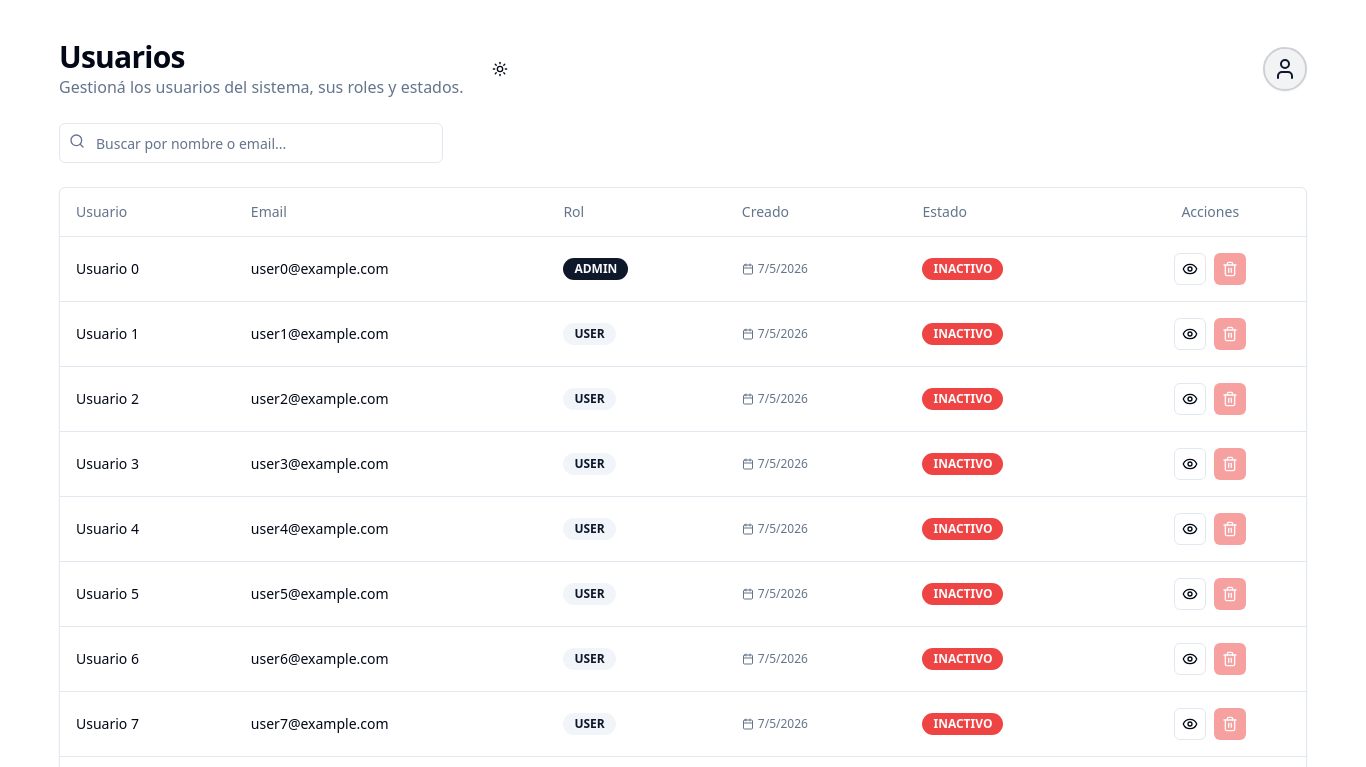
Scenario: UsersPage › Persistencia de búsqueda › debería mantener el término de búsqueda al cambiar de página
Expected: the text "Usuario 0" is shown, [60,236,235,301]
Type "usuario" into the field with placeholder "Buscar por nombre o email..." at (251, 143), box [59,123,443,163]
(page scrolled)
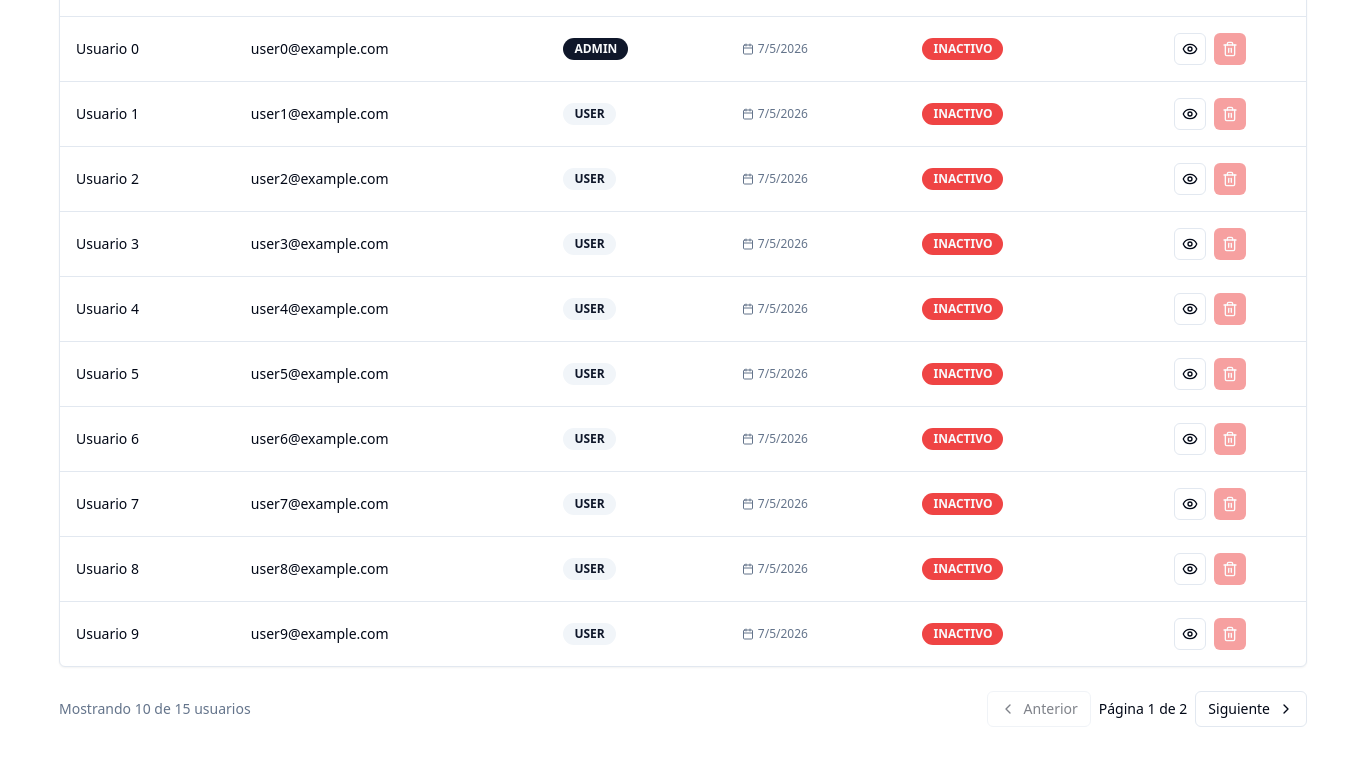
Expected: the text "Usuario 0" is shown, [60,16,235,81]
// Navega a página 2
Click the button "Siguiente" at (1251, 708), box [1195,690,1307,726]
(page scrolled)
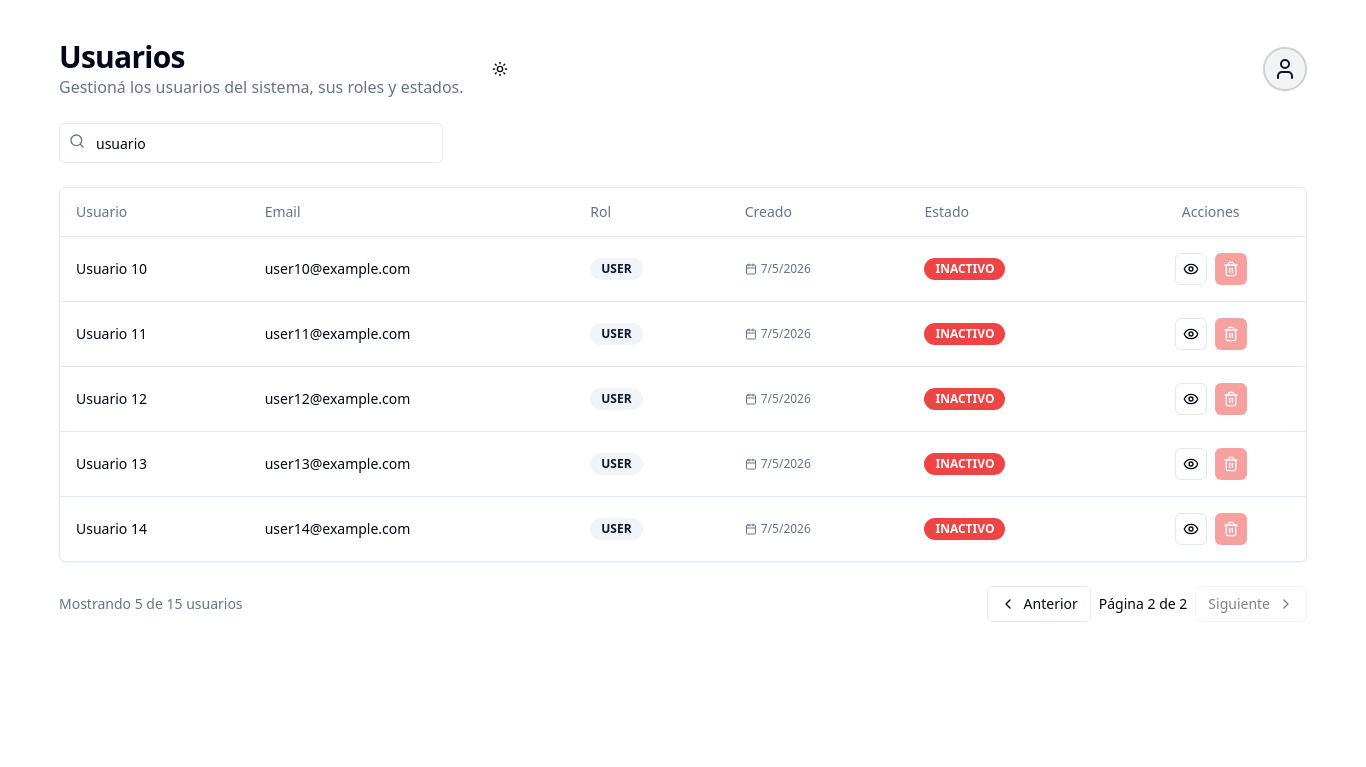
Now the text "Usuario 10" is shown, box [60,236,249,301]
